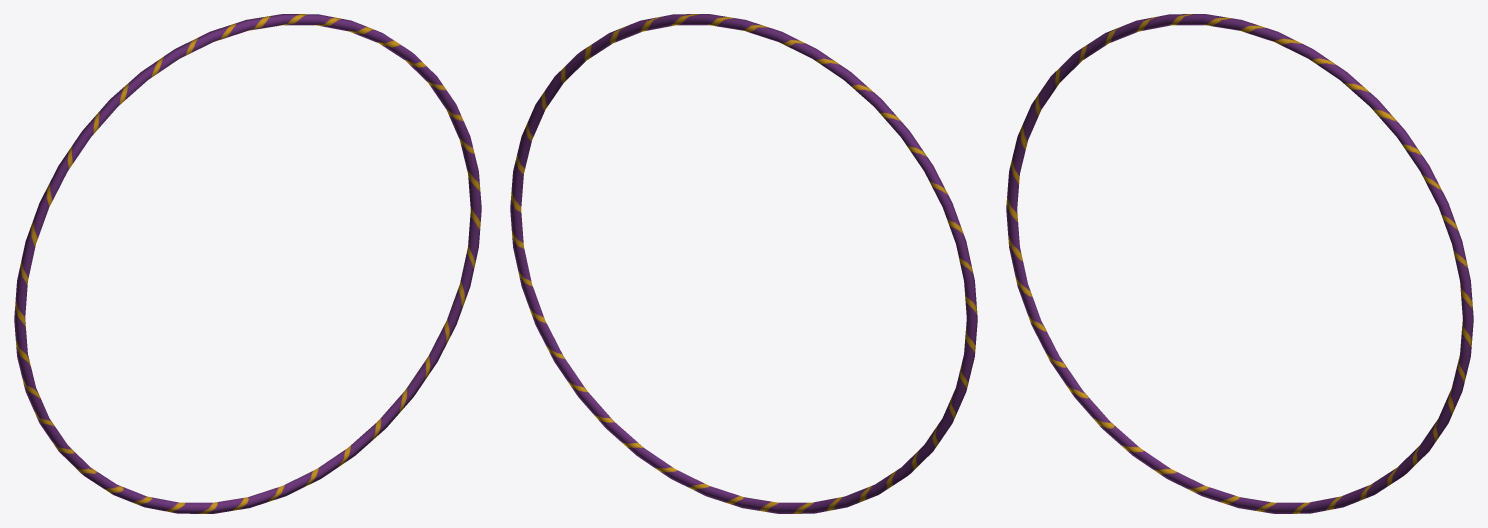
File: HulaHoop_Big2.fbx
3 views of the same model, side by side, from view 1: azimuth 30°, elevation 25°; view 2: azimuth 150°, elevation 25°; view 3: azimuth 330°, elevation 25° (orthographic).
Visible parts, largest first — view 1: HulaHoop_Big2; view 2: HulaHoop_Big2; view 3: HulaHoop_Big2.
Boxes of the visible parts, <box> form: HulaHoop_Big2: <box>14,14,481,513</box>; HulaHoop_Big2: <box>510,14,977,513</box>; HulaHoop_Big2: <box>1006,14,1473,513</box>.
Bounding box in the file's own units: 54.24 × 54.24 × 1.14.
